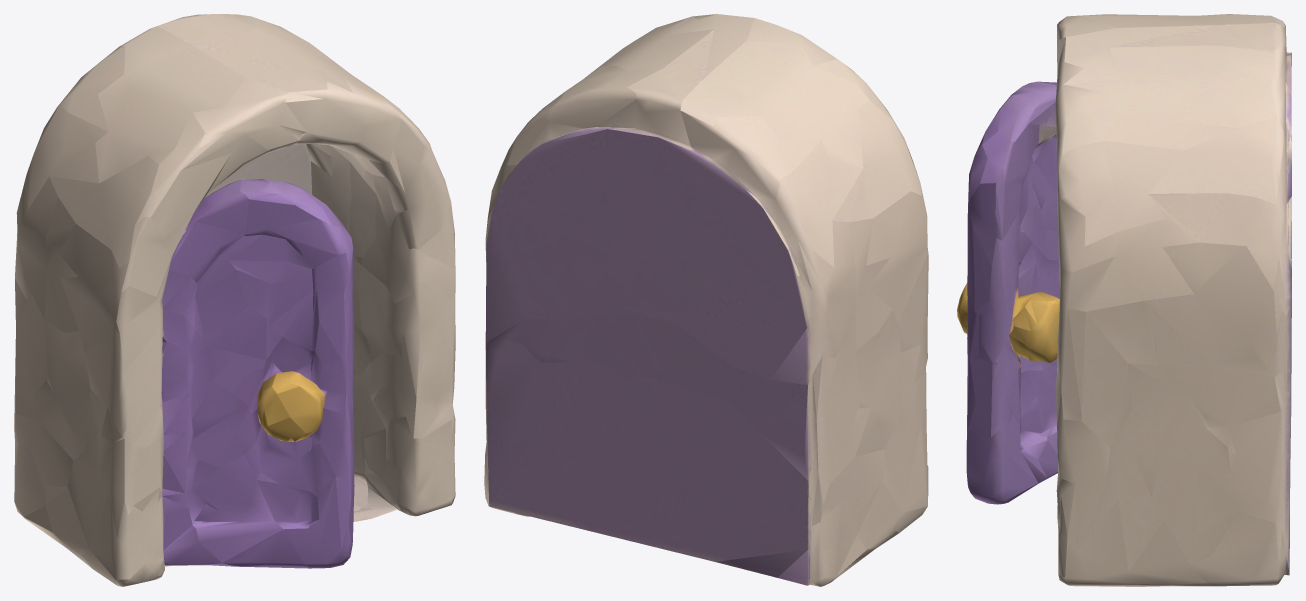
The model's file is dream-door.glb.
The picture shows the model from 3 angles, left to right: view 1: azimuth 30°, elevation 25°; view 2: azimuth 150°, elevation 25°; view 3: azimuth 270°, elevation 25°; orthographic projection. The views are drawn at different scales.
Visible parts, largest first — view 1: dream-door; view 2: dream-door; view 3: dream-door.
Boxes of the visible parts, box(x1,y1,x2,y2) form: dream-door: box(14, 14, 455, 586); dream-door: box(484, 14, 928, 586); dream-door: box(957, 14, 1291, 586).
Size of the model in its own units: 1.49 by 1.9 by 1.22.
1 material, 1 textured.
